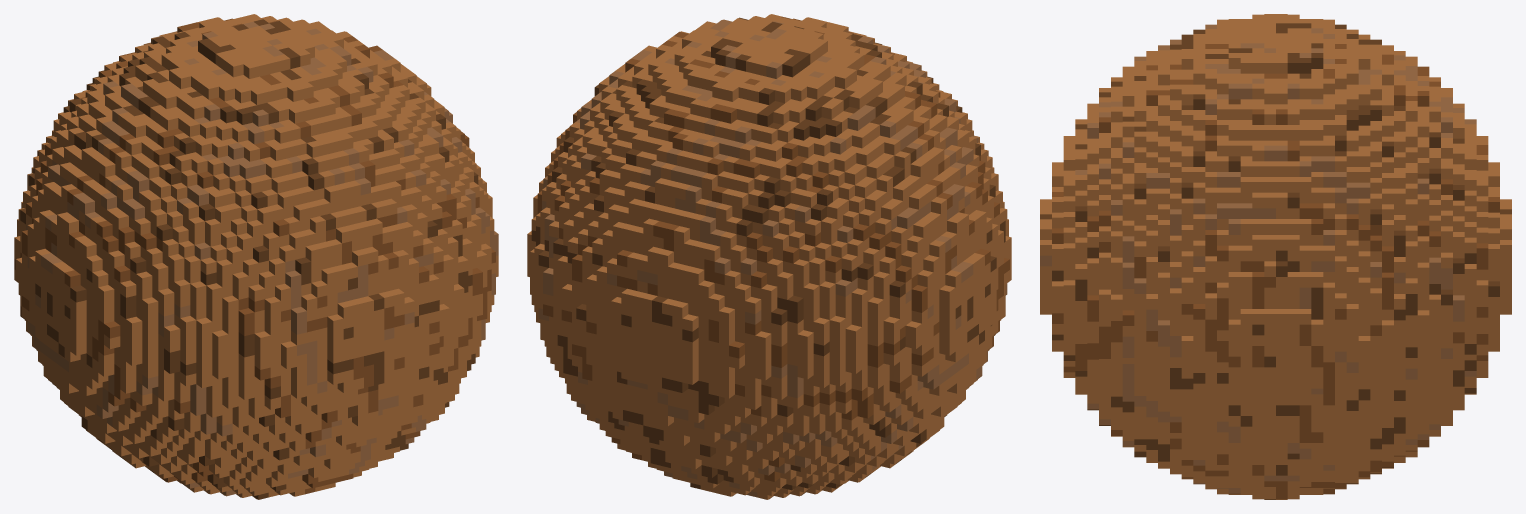
File: Moving rock.obj
3 renders of one model, left to right at view 1: azimuth 30°, elevation 25°; view 2: azimuth 150°, elevation 25°; view 3: azimuth 270°, elevation 25°, orthographic.
Bounding box in the file's own units: 4 × 4 × 4.
